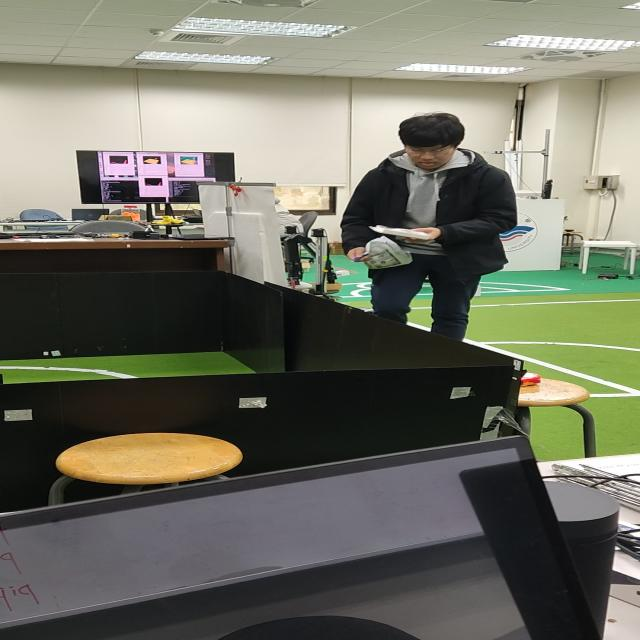person: (314, 101, 527, 343)
